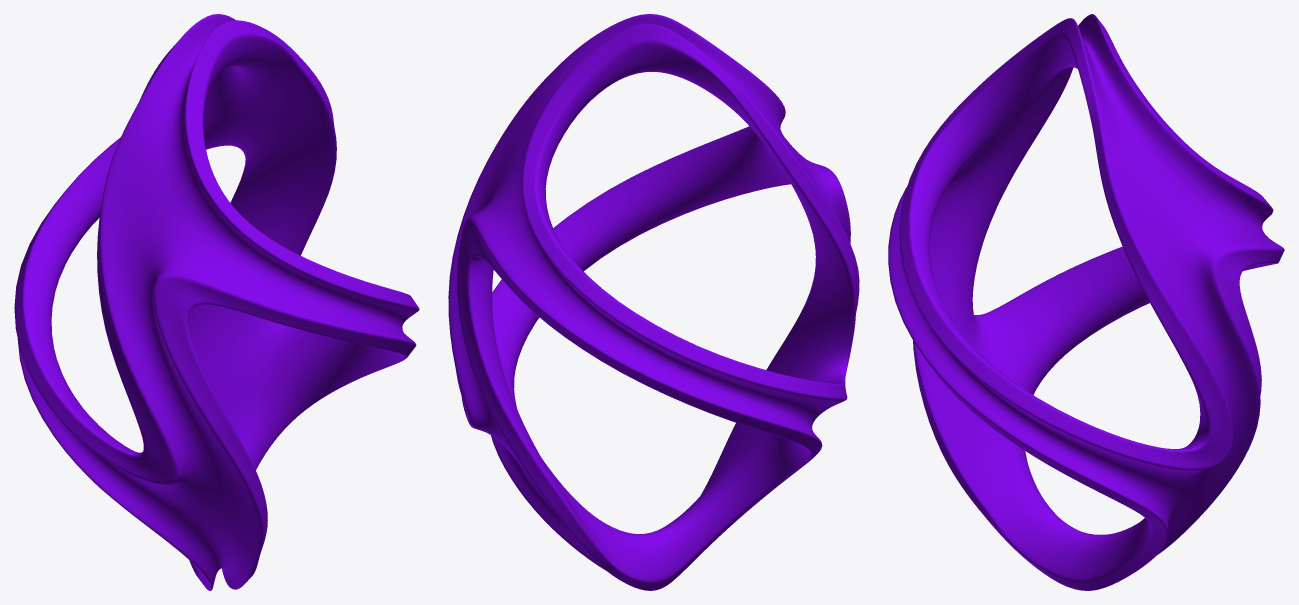
The model's file is rainbow-pendant-edited.glb.
3 views of the same model, side by side, from view 1: azimuth 30°, elevation 25°; view 2: azimuth 150°, elevation 25°; view 3: azimuth 270°, elevation 25° (orthographic).
Parts seen in each view (by area): view 1: Hedra001_Material; view 2: Hedra001_Material; view 3: Hedra001_Material.
Part boxes in pixels (left/top/right/bottom): Hedra001_Material: left=14, top=14, right=419, bottom=590; Hedra001_Material: left=448, top=14, right=859, bottom=590; Hedra001_Material: left=888, top=14, right=1284, bottom=590.
Bounding box in the file's own units: 1.01 × 1.58 × 1.
